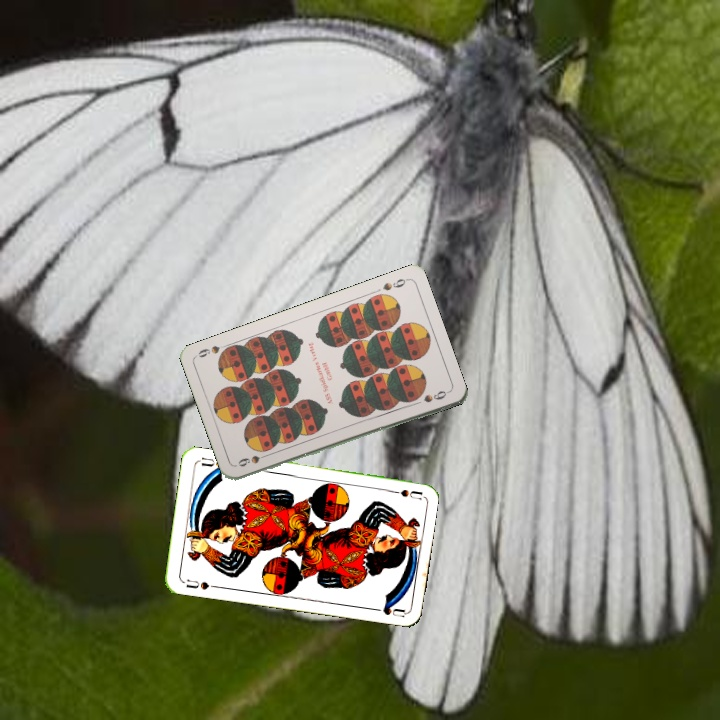S9: (235, 449, 273, 469), (379, 274, 410, 293)
SU: (382, 485, 423, 502), (182, 575, 219, 592)
